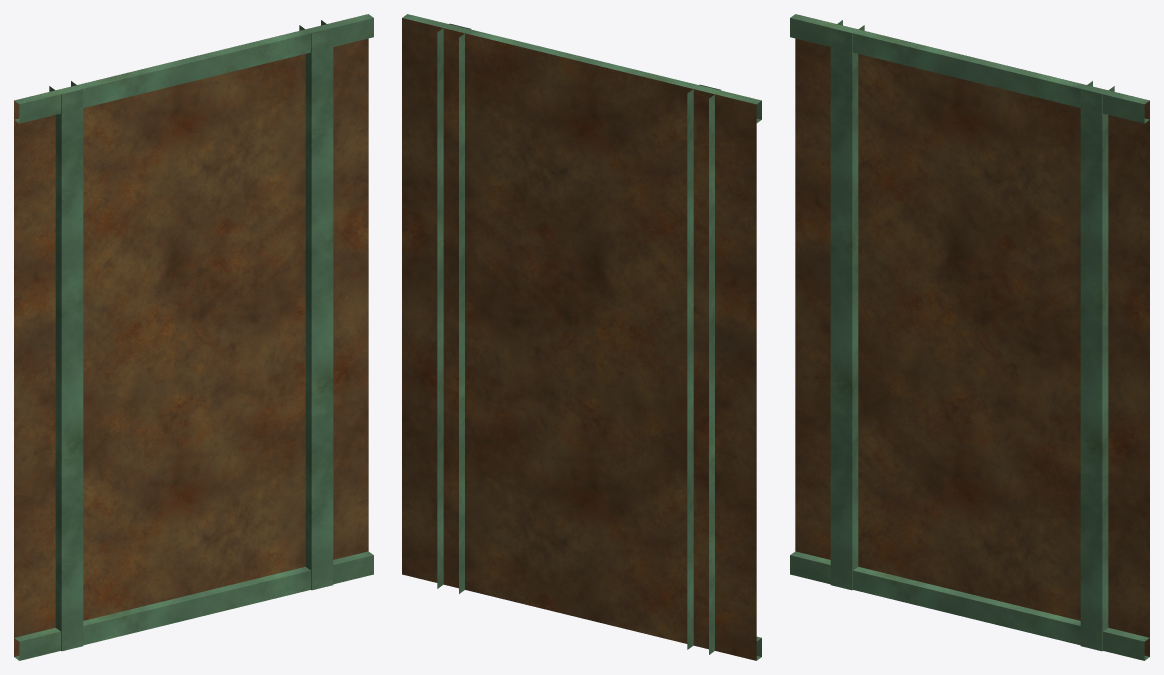
File: Wall2_MidShip.FBX
3 views of the same model, side by side, from view 1: azimuth 30°, elevation 25°; view 2: azimuth 150°, elevation 25°; view 3: azimuth 330°, elevation 25° (orthographic).
Parts seen in each view (by area): view 1: Object016; view 2: Object016; view 3: Object016.
Boxes of the visible parts, x1,y1,x2,y2 form: Object016: [14, 14, 373, 660]; Object016: [402, 14, 761, 660]; Object016: [790, 14, 1149, 660].
Size of the model in its own units: 200 by 300 by 12.01.
